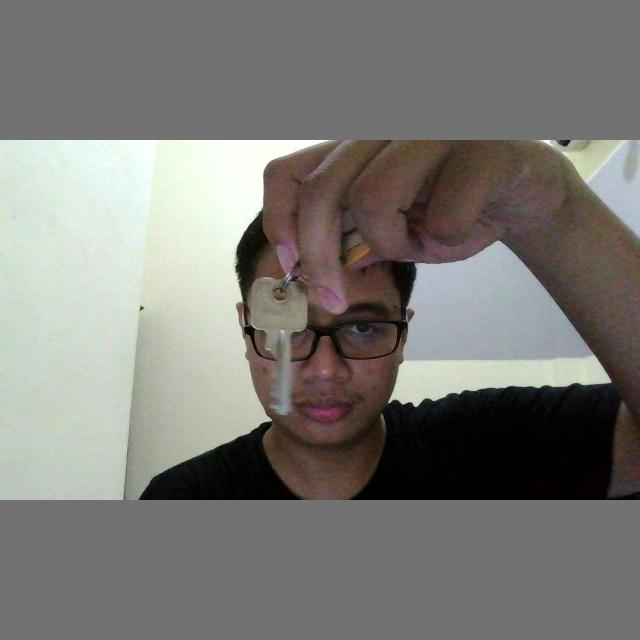Keys: (250, 262, 310, 426)
